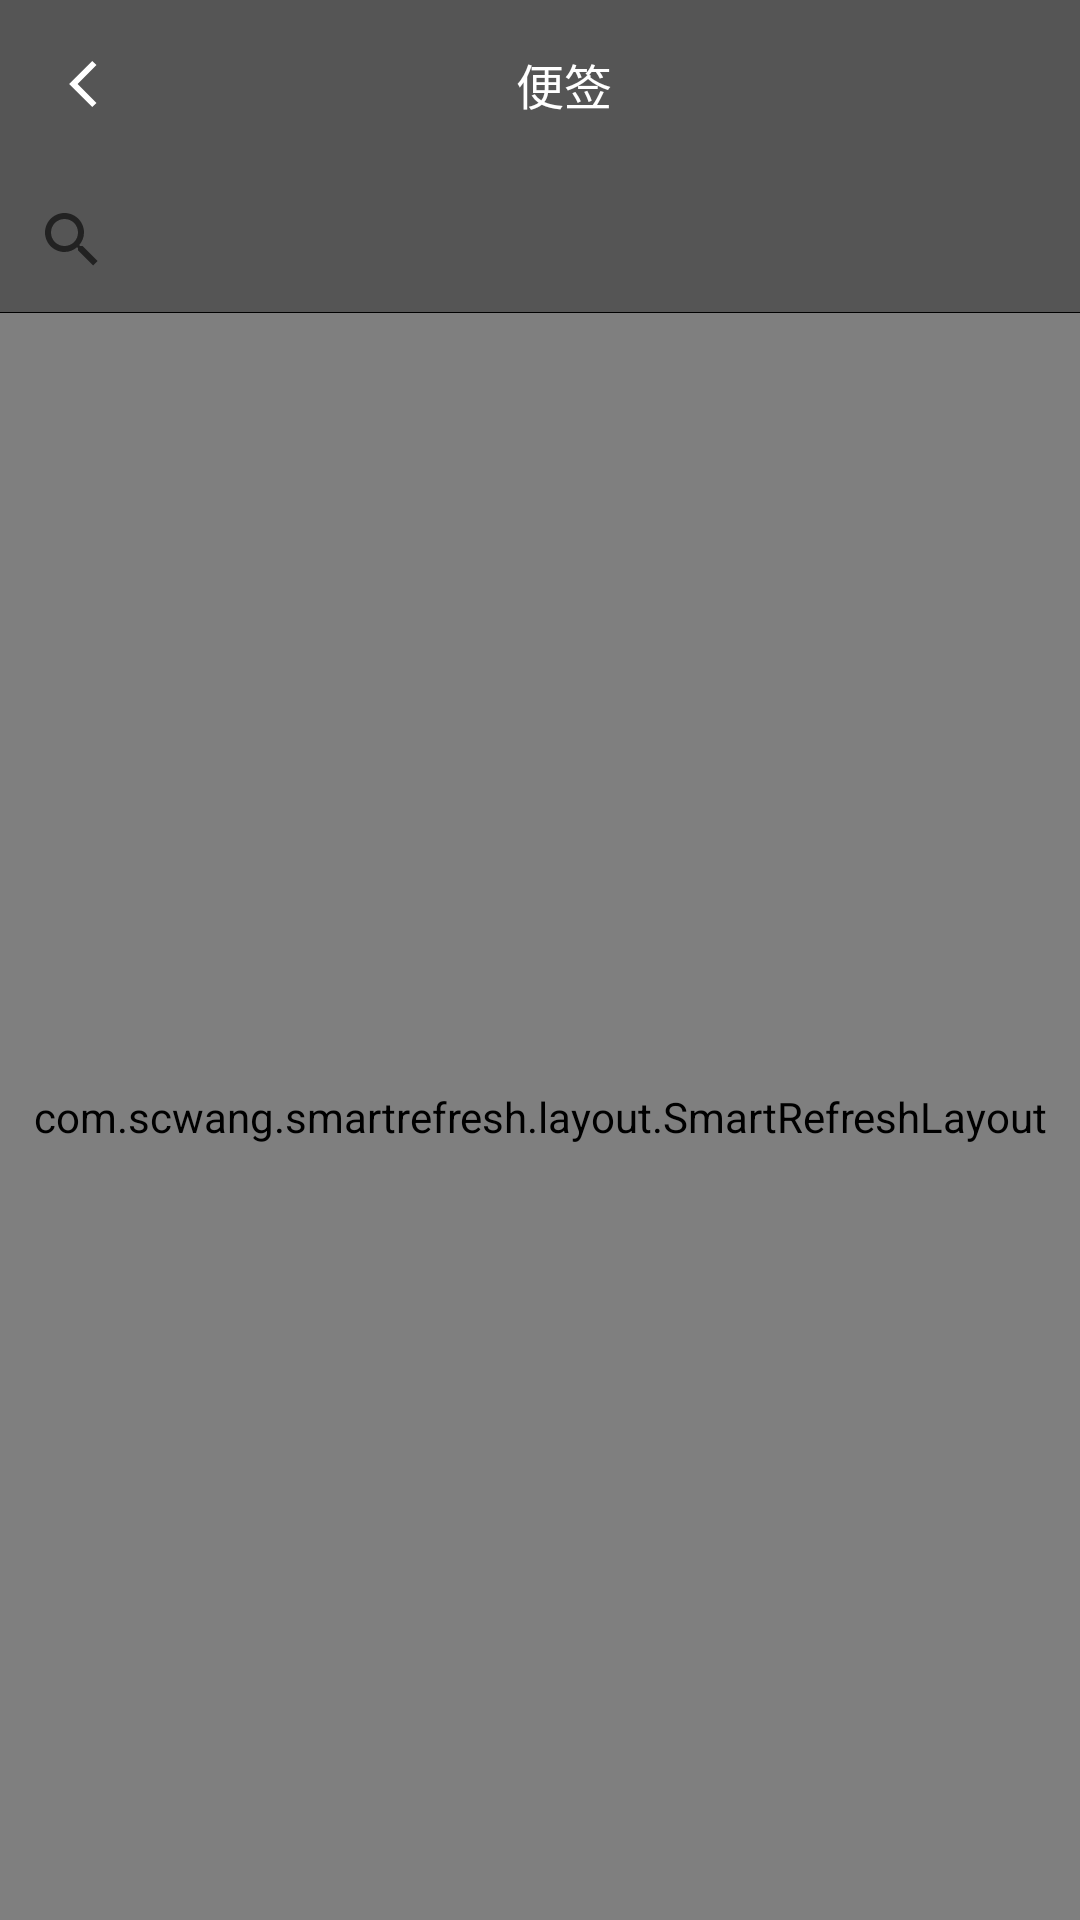

Screen size 1080 x 1920. Icon name, then its center in pixels as [x,y]:
arrow left: [82,84]
